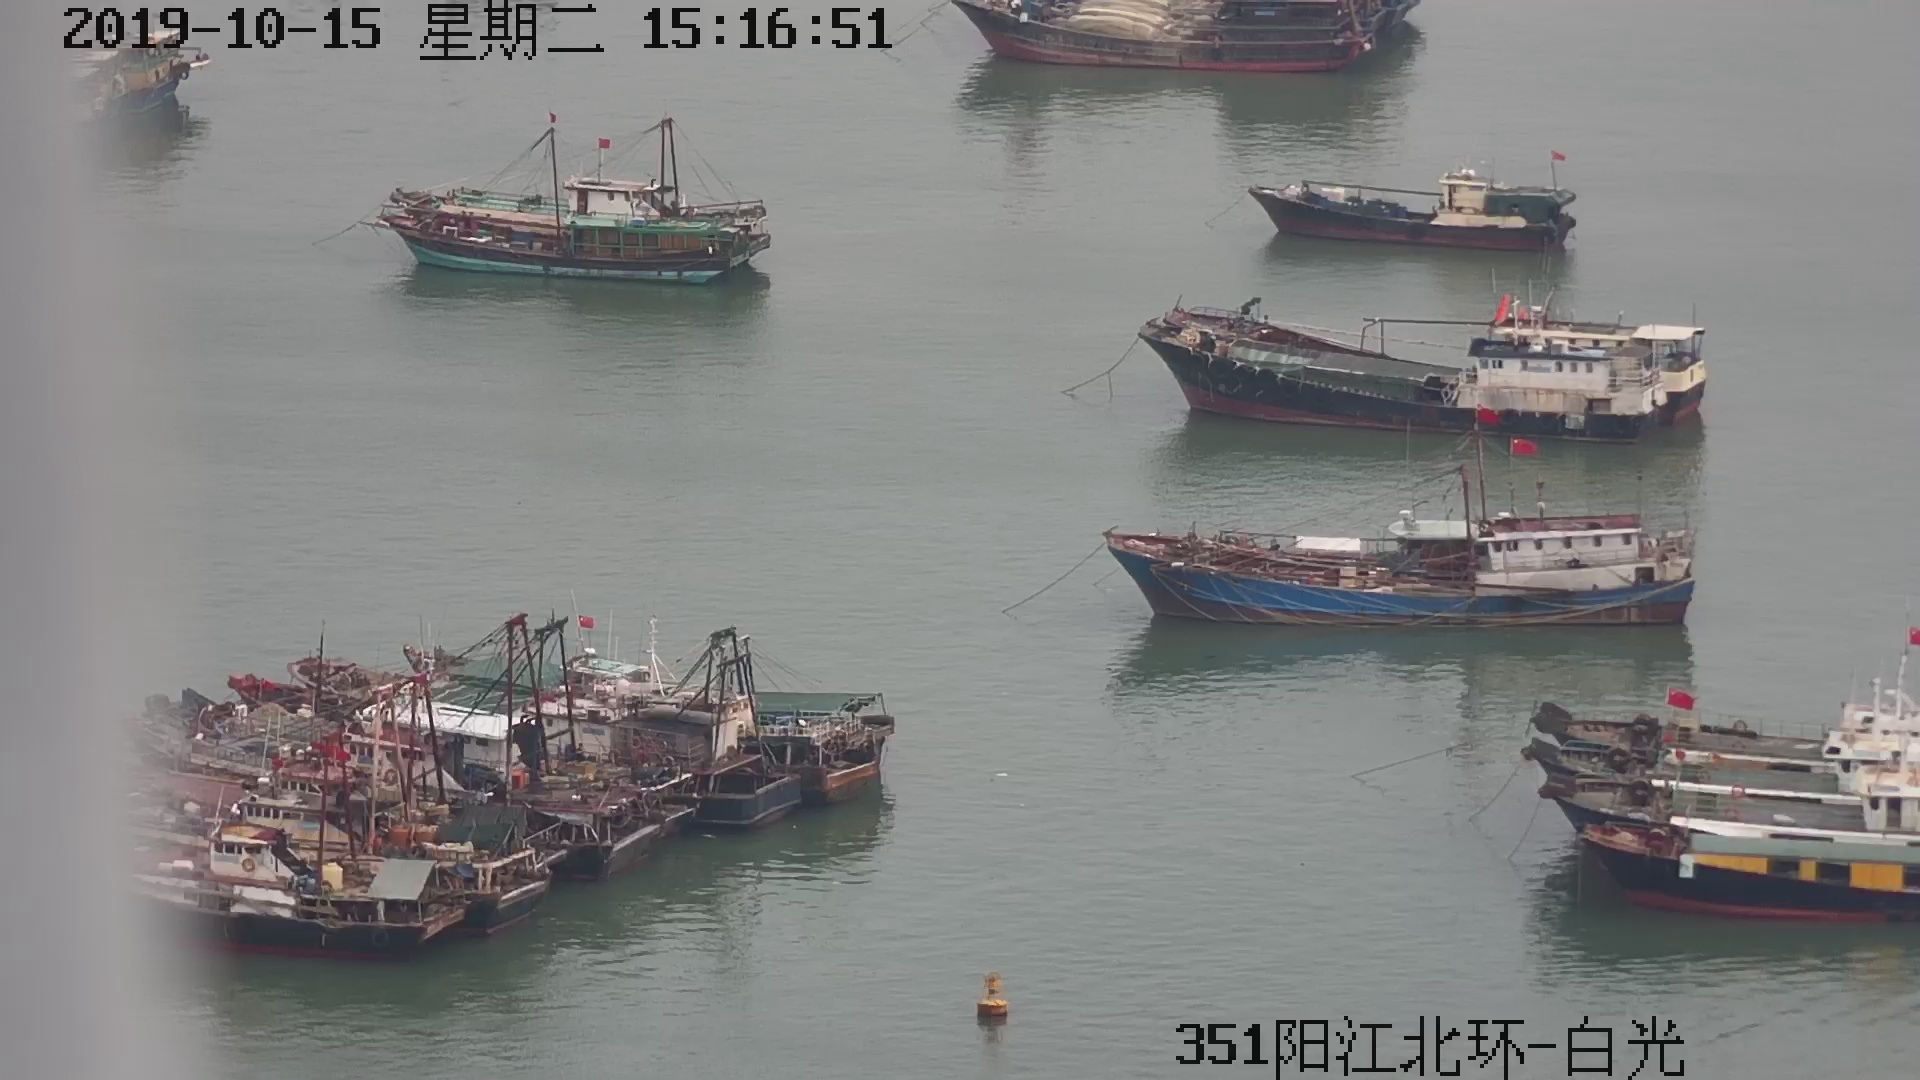ship: (1536, 646, 1920, 935), (1102, 472, 1683, 626), (1135, 301, 1712, 443), (368, 105, 771, 289), (953, 1, 1425, 76), (1253, 156, 1577, 258)
